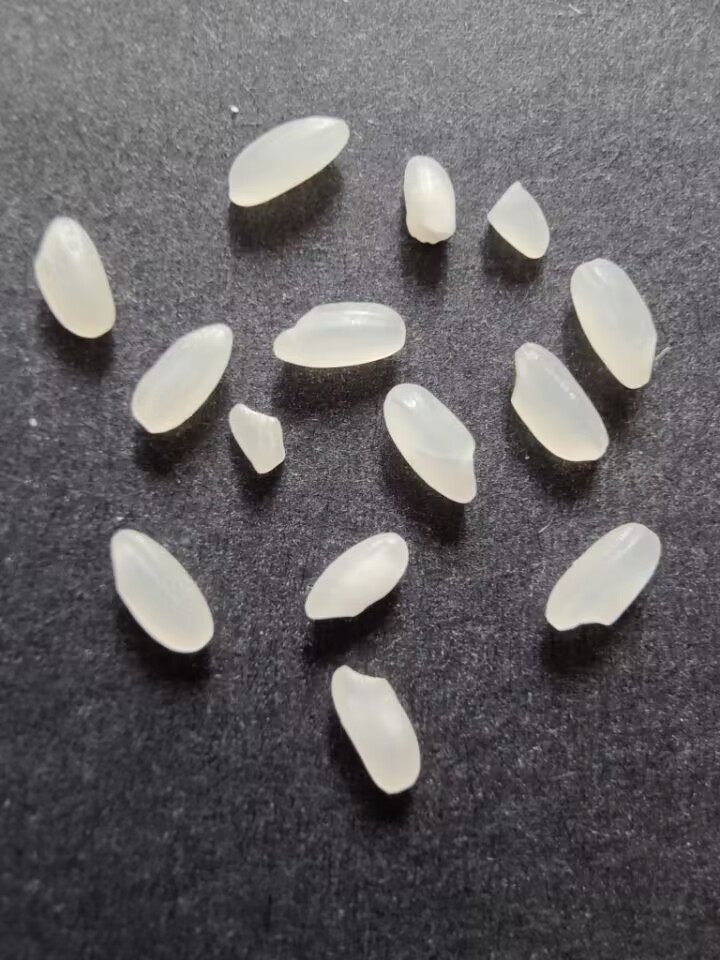broken: (395, 152, 461, 249), (481, 180, 551, 260), (224, 400, 293, 477)
rice: (105, 524, 219, 658), (543, 518, 665, 633), (508, 339, 614, 468), (380, 379, 483, 511), (330, 659, 427, 797), (224, 109, 353, 210), (568, 254, 660, 392), (129, 320, 236, 438), (29, 213, 121, 345), (297, 530, 413, 623), (268, 297, 411, 370)
